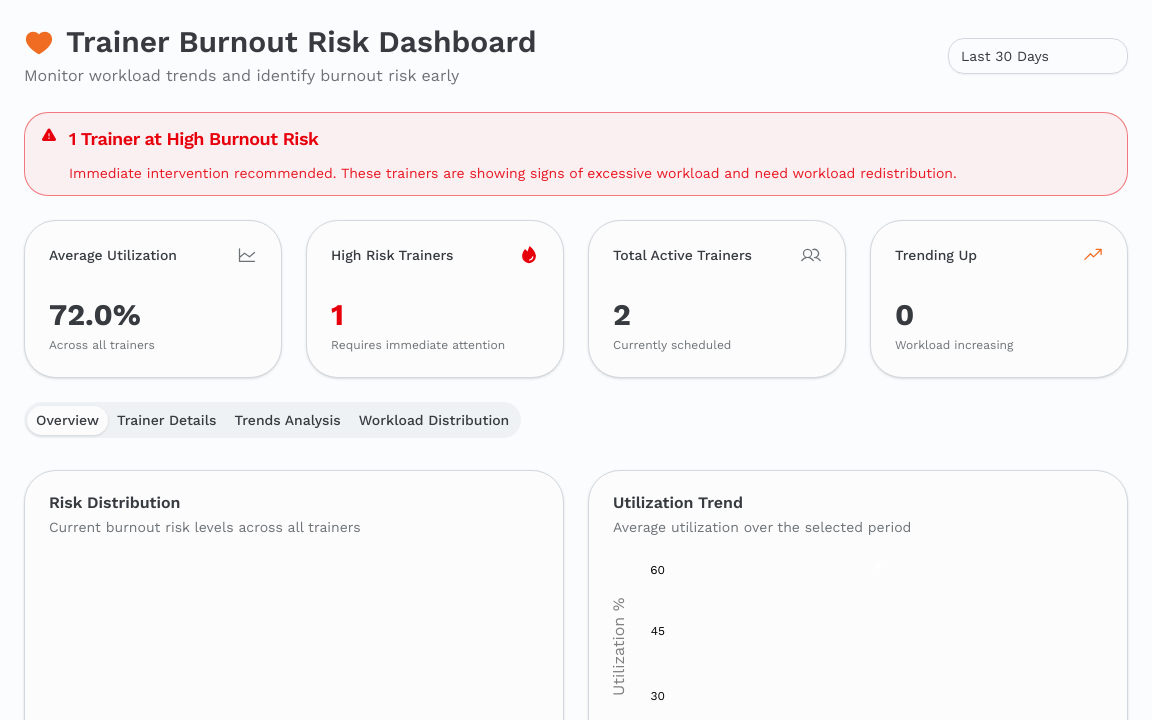
BurnoutDashboard › shows stable trend state in trainer details when trend is unchanged
Step 1. Click the tab "Trainer Details" → x=167, y=420, box left=108, top=406, right=226, bottom=434
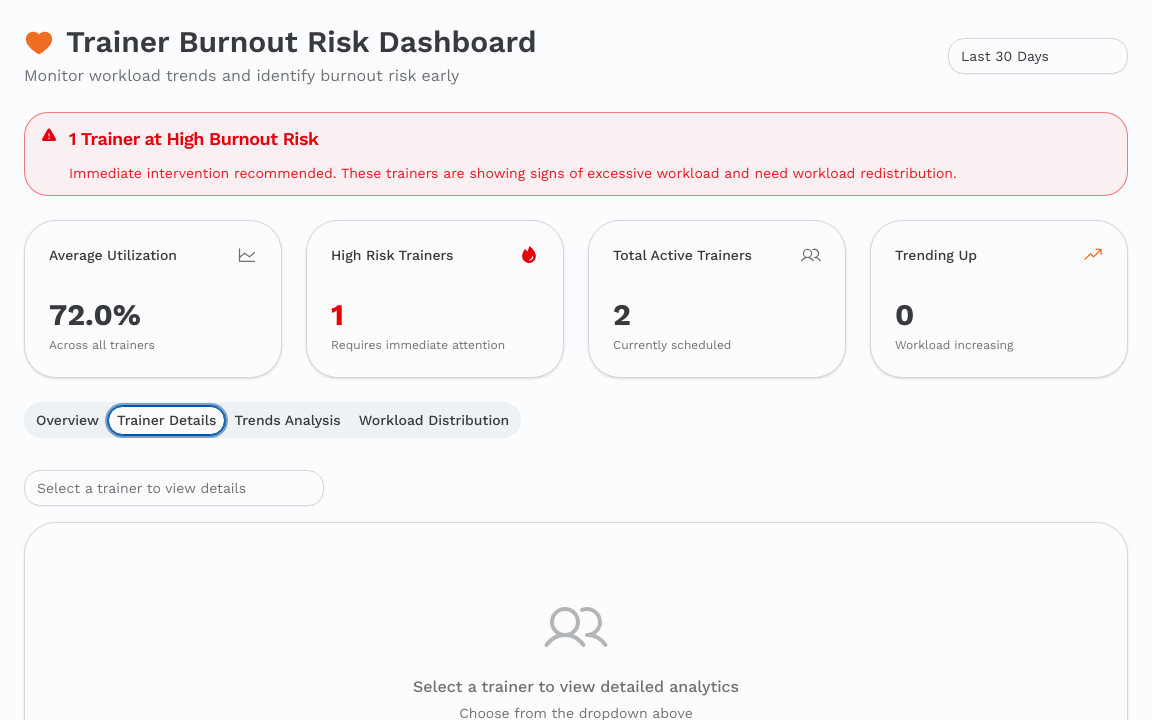
Step 2. Click the dropdown named "select trainer" → x=174, y=488, box left=24, top=470, right=324, bottom=506
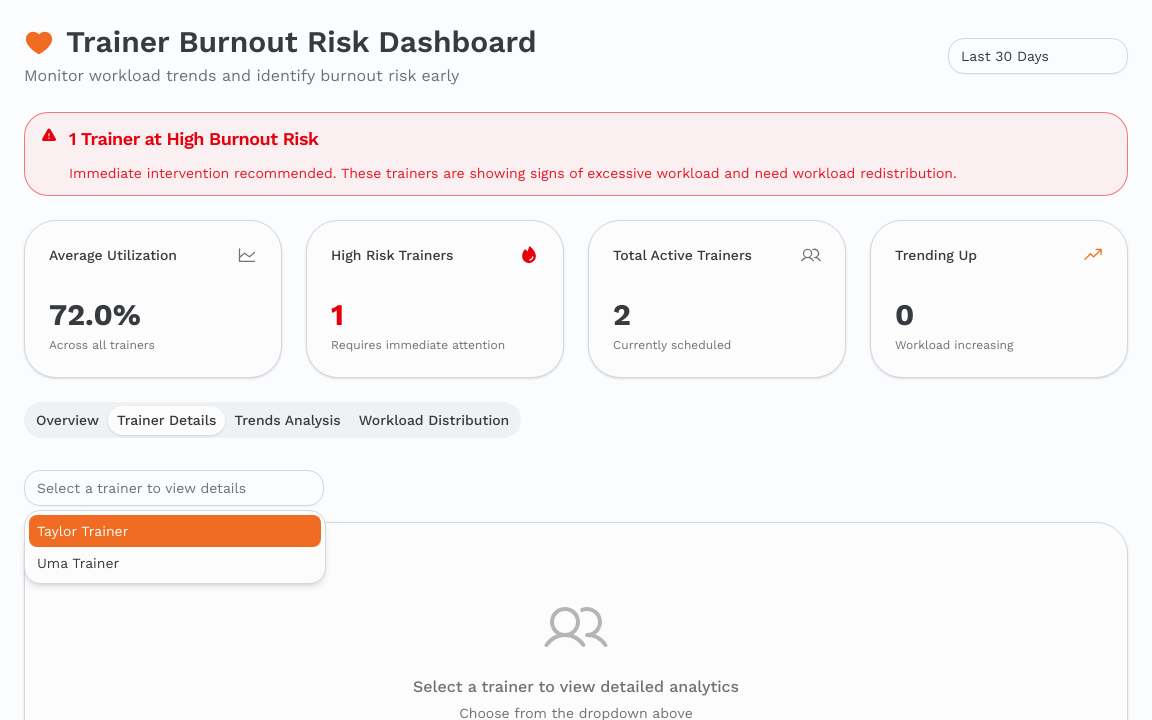
Step 3. Click the option "Taylor Trainer" → x=83, y=531, box left=29, top=515, right=321, bottom=547
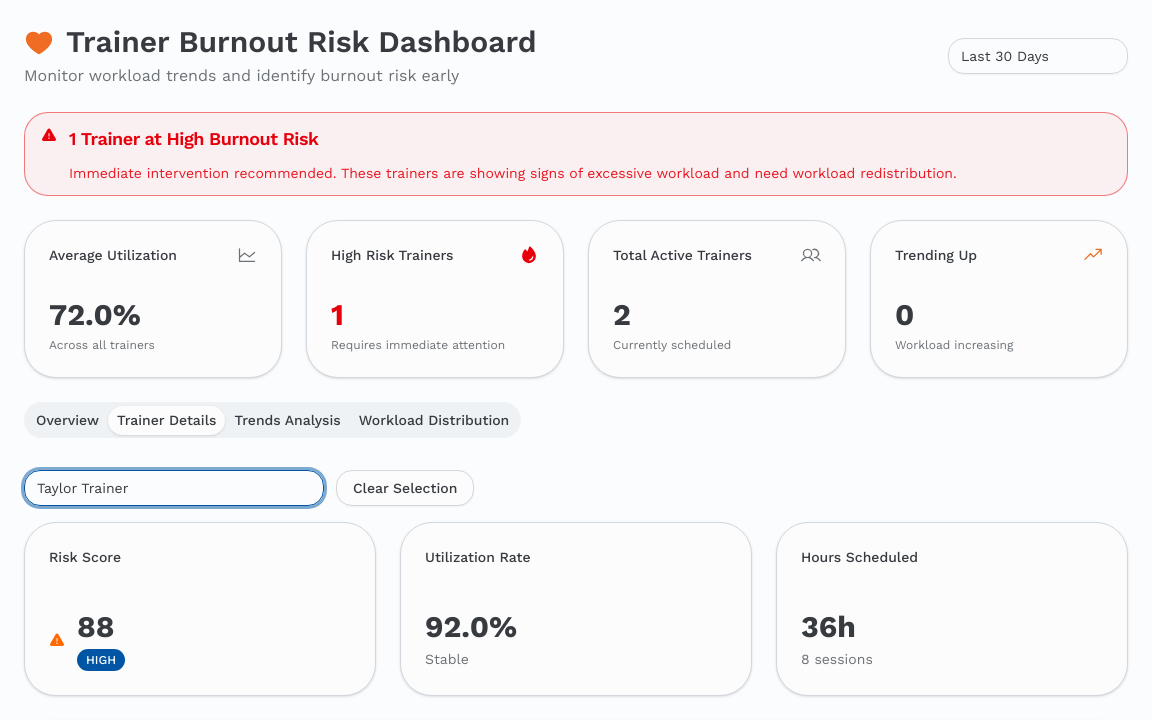
Now the text "Stable" is shown, box left=425, top=649, right=469, bottom=669
